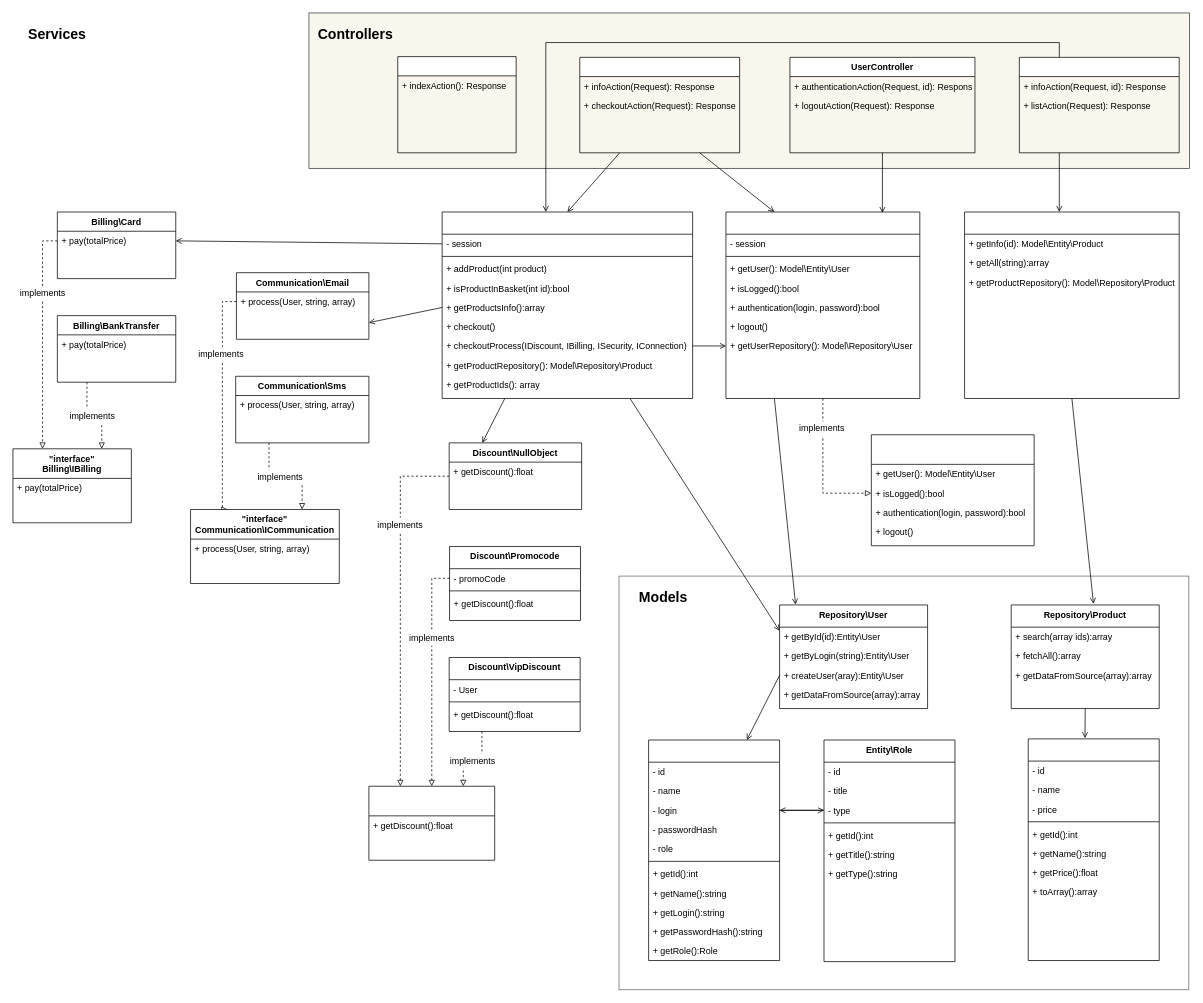
Image size: 1203x1003. Some labels were removed from this diagram. Each missing label, with the box of its shape:
"interface" Discount\IDiscount: (368, 786, 495, 860)
"interface" User\ISecurity: (871, 434, 1034, 546)
Entity\Product: (1027, 738, 1159, 961)
Entity\User: (648, 739, 780, 961)
MainController: (397, 56, 516, 153)
Order\Basket: (441, 211, 693, 398)
OrderController: (579, 57, 740, 153)
Product\Product: (964, 211, 1179, 398)
ProductController: (1019, 57, 1179, 153)
User\Security: (725, 211, 920, 398)
